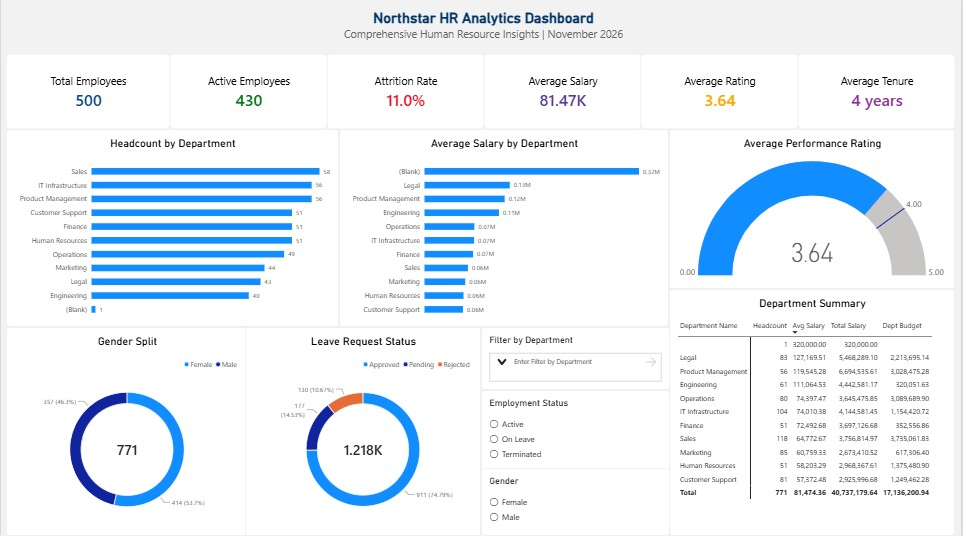

Layout of this report page (visuals, bound fields, positions):
{"tool":"powerbi","page":{"name":"Executive Dashboard","canvas":[1920,1080],"ordinal":3},"visuals":[{"type":"textbox","title":"Northstar HR Analytics Dashboard","box":[10,26,1910,64],"z":0},{"type":"cardVisual","fields":{"Data":["Employees.Attrition_Rate"]},"box":[652,116,314,150],"z":1000},{"type":"cardVisual","fields":{"Data":["Employees.Active_Employees"]},"box":[338,116,314,150],"z":2000},{"type":"cardVisual","fields":{"Data":["Employees.Total_Employees"]},"box":[10,116,328,150],"z":3000},{"type":"cardVisual","fields":{"Data":["Employees.Avg_Salary"]},"box":[966,116,314,150],"z":4000},{"type":"cardVisual","fields":{"Data":["Avg(PerformanceReviews.rating)"]},"box":[1280,116,314,150],"z":5000},{"type":"cardVisual","fields":{"Data":["Employees.Avg_Tenure"]},"box":[1594,116,314,150],"z":6000},{"type":"clusteredBarChart","title":"Headcount by Department","fields":{"Category":["Departments.department_name"],"Y":["Attendance.Employee_Count"]},"box":[10,266,666,396],"z":7000},{"type":"clusteredBarChart","title":"Average Salary by Department","fields":{"Category":["Departments.department_name"],"Y":["Employees.Avg_Salary"]},"box":[676,266,660,396],"z":8000},{"type":"donutChart","title":"Gender Split","fields":{"Category":["Employees.gender"],"Y":["CountNonNull(EmployeeProjects.employee_id)"]},"box":[10,662,484,418],"z":9000},{"type":"gauge","fields":{"Y":["Avg(PerformanceReviews.rating)"]},"box":[1336,266,572,320],"z":10000},{"type":"donutChart","title":"Leave Request Status","fields":{"Category":["LeaveRequests.status"],"Y":["CountNonNull(LeaveRequests.leave_id)"]},"box":[488,662,472,418],"z":11000},{"type":"pivotTable","title":"Department Summary","fields":{"Rows":["Departments.department_name"],"Values":["CountNonNull(EmployeeProjects.employee_id)","Employees.Avg_Salary","Sum(Employees.salary)","Sum(Departments.budget)"]},"box":[1336,586,572,494],"z":12000},{"type":"textSlicer","fields":{"Values":["Departments.department_name"]},"box":[960,662,378,126],"z":13000},{"type":"listSlicer","fields":{"Values":["Employees.employment_status"]},"box":[960,788,378,166],"z":14000},{"type":"listSlicer","fields":{"Values":["Employees.gender"]},"box":[960,944,378,136],"z":14001}]}

Visuals, with their boxes in screenshot pixels (x1, y1, x2, y2), scaled from the page's 1920x1080 canvas onto the 963x536 screenshot:
"Northstar HR Analytics Dashboard" textbox: (left=5, top=13, right=962, bottom=45)
cardVisual - Employees.Attrition_Rate: (left=327, top=58, right=485, bottom=132)
cardVisual - Employees.Active_Employees: (left=170, top=58, right=327, bottom=132)
cardVisual - Employees.Total_Employees: (left=5, top=58, right=170, bottom=132)
cardVisual - Employees.Avg_Salary: (left=485, top=58, right=642, bottom=132)
cardVisual - Avg(PerformanceReviews.rating): (left=642, top=58, right=799, bottom=132)
cardVisual - Employees.Avg_Tenure: (left=799, top=58, right=957, bottom=132)
"Headcount by Department" clusteredBarChart: (left=5, top=132, right=339, bottom=329)
"Average Salary by Department" clusteredBarChart: (left=339, top=132, right=670, bottom=329)
"Gender Split" donutChart: (left=5, top=329, right=248, bottom=535)
gauge - Avg(PerformanceReviews.rating): (left=670, top=132, right=957, bottom=291)
"Leave Request Status" donutChart: (left=245, top=329, right=482, bottom=535)
"Department Summary" pivotTable: (left=670, top=291, right=957, bottom=535)
textSlicer - Departments.department_name: (left=482, top=329, right=671, bottom=391)
listSlicer - Employees.employment_status: (left=482, top=391, right=671, bottom=473)
listSlicer - Employees.gender: (left=482, top=469, right=671, bottom=535)
